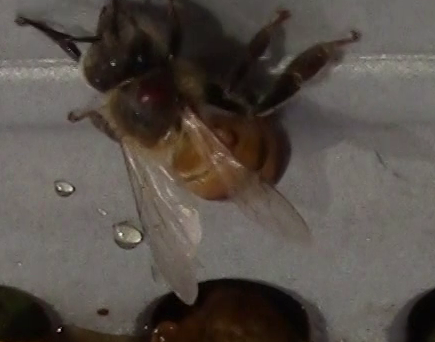Varroa destructor: (134, 75, 178, 112)
